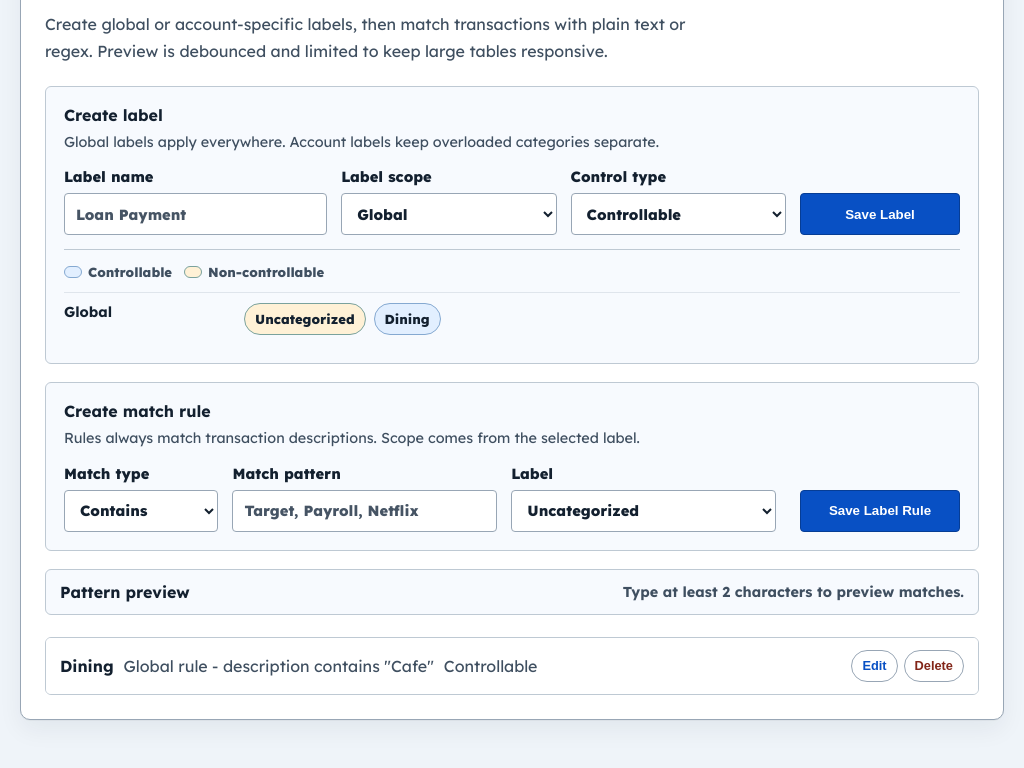
App › edits and deletes label rules
The image size is (1024, 768).
(page scrolled)
Check: the text "Global rule - description contains \"Cafe\"" is shown, box [124, 656, 434, 676]
Click the button "Edit": {"x": 874, "y": 666} [851, 650, 898, 682]
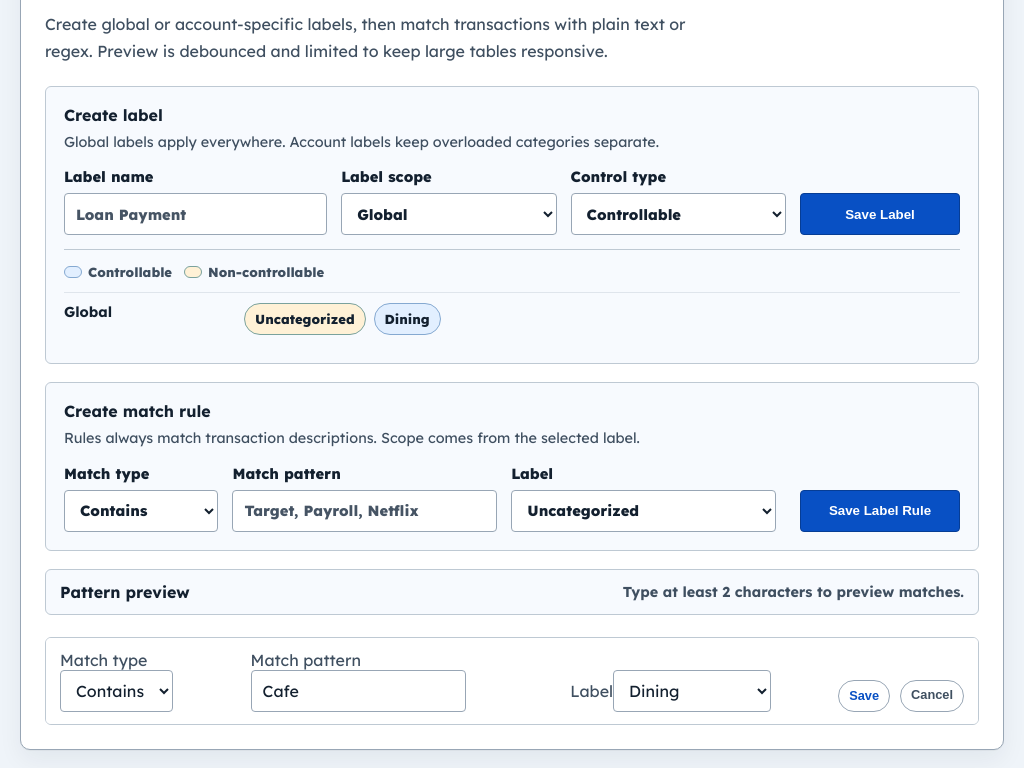
Check: the form showing "Cafe" is shown, box [60, 650, 964, 712]
Select "Regex" in the 2nd dropdown labelled "Match type": {"x": 116, "y": 691} [60, 670, 173, 712]
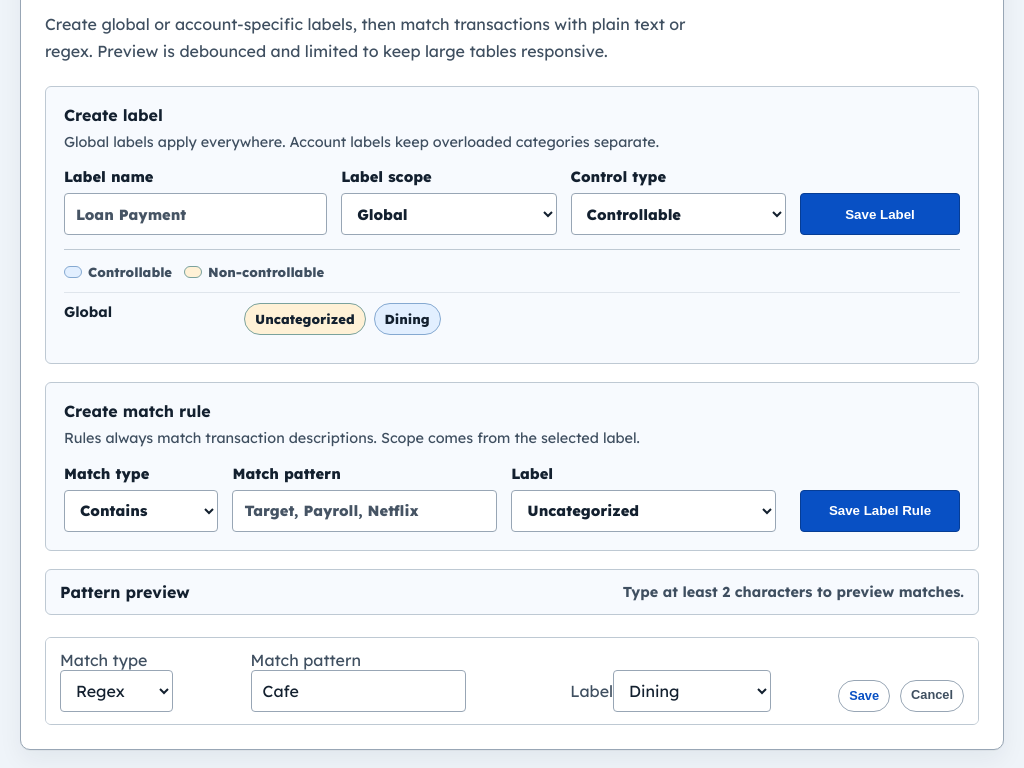
Replace the text in the 2nd field labelled "Match pattern" with "Coffee|Cafe": {"x": 358, "y": 691} [251, 670, 466, 712]
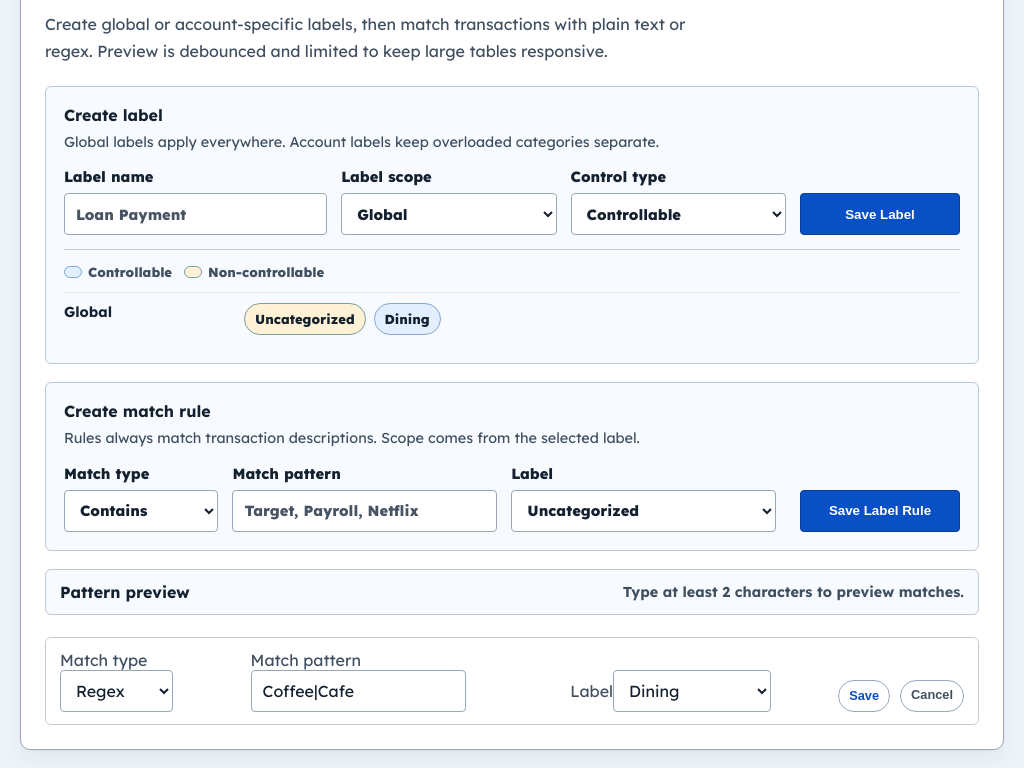
Select "Uncategorized" in the 2nd dropdown labelled "Label": {"x": 692, "y": 691} [613, 670, 771, 712]
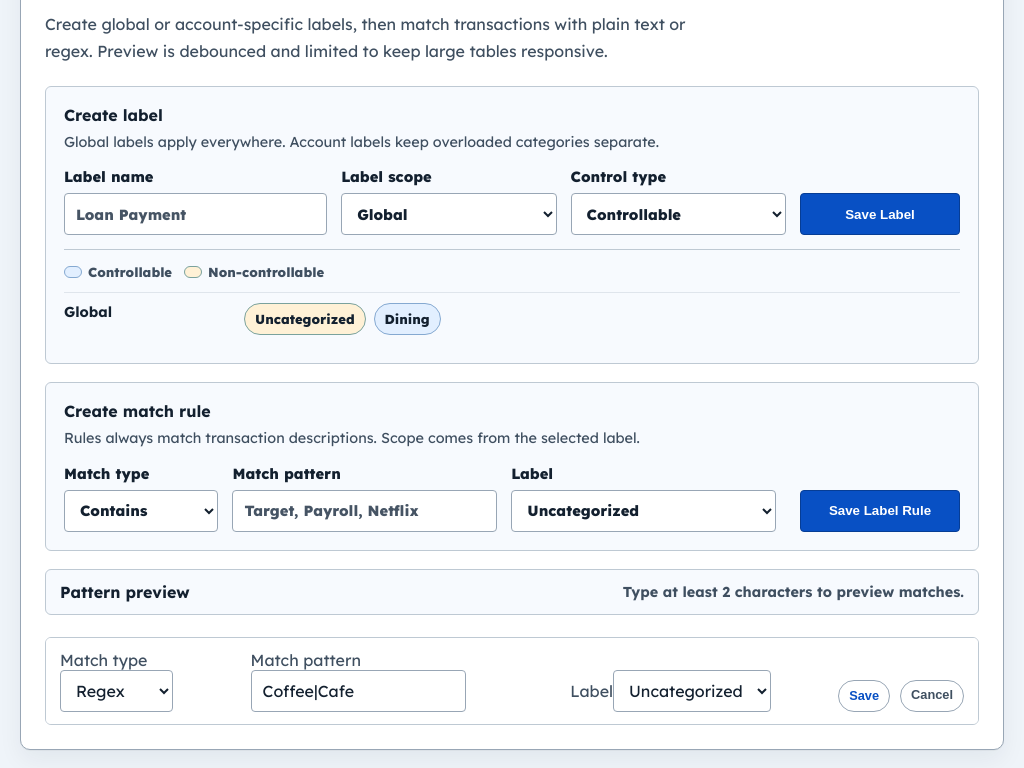
Click the button "Save": {"x": 864, "y": 696} [838, 680, 890, 712]
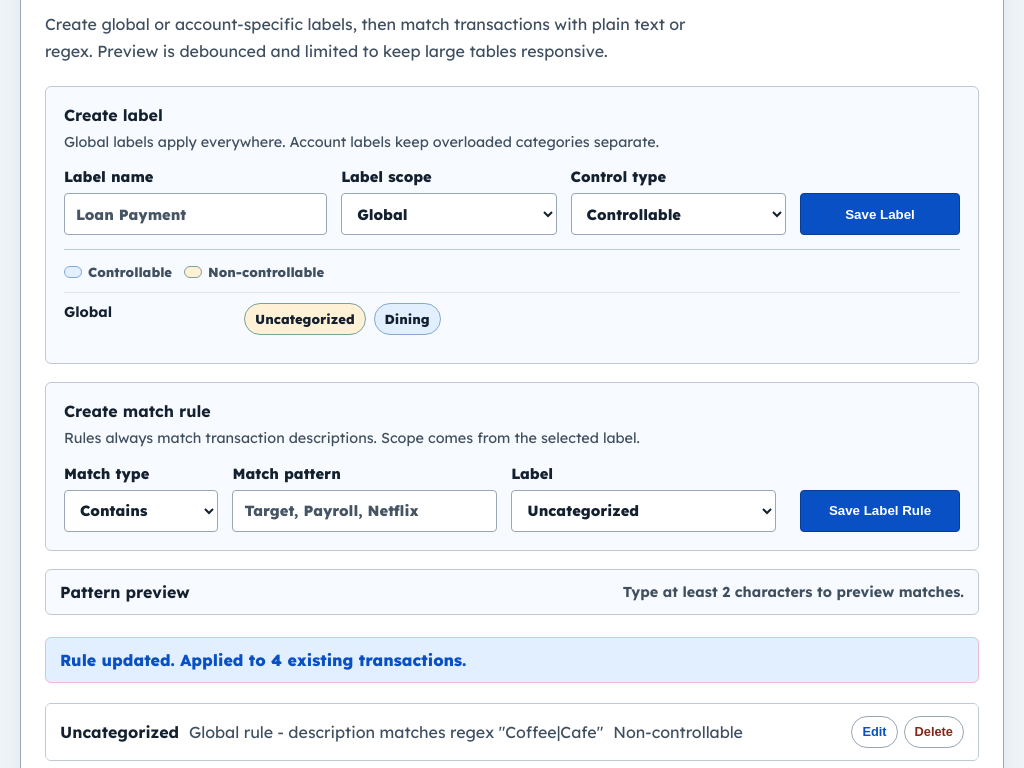
Check: the text "Rule updated. Applied to 4 existing transactions." is shown, box [45, 637, 979, 683]
Click the button "Delete": {"x": 934, "y": 732} [904, 716, 964, 748]
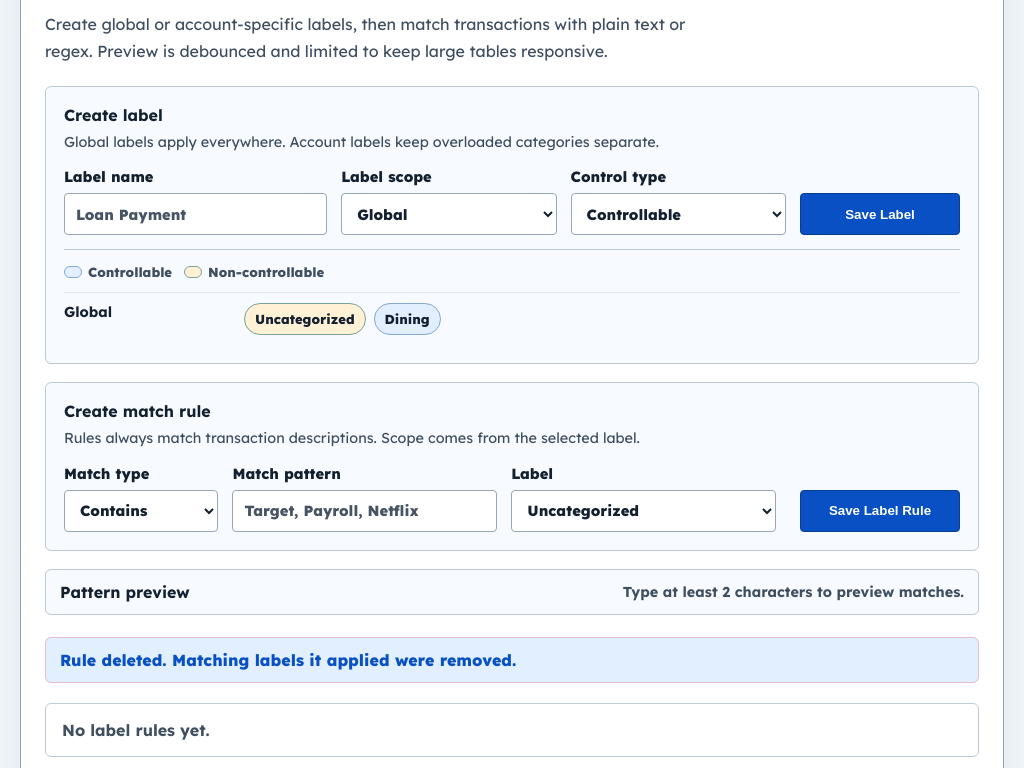
Check: the text "Rule deleted. Matching labels it applied were removed." is shown, box [45, 637, 979, 683]
Check: the text "Global rule - description matches regex \"Coffee|Cafe\"" is gone
